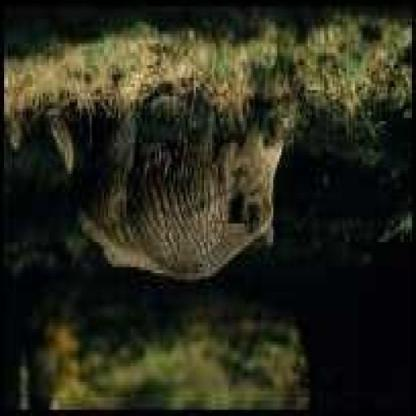boar: (56, 89, 326, 307)
